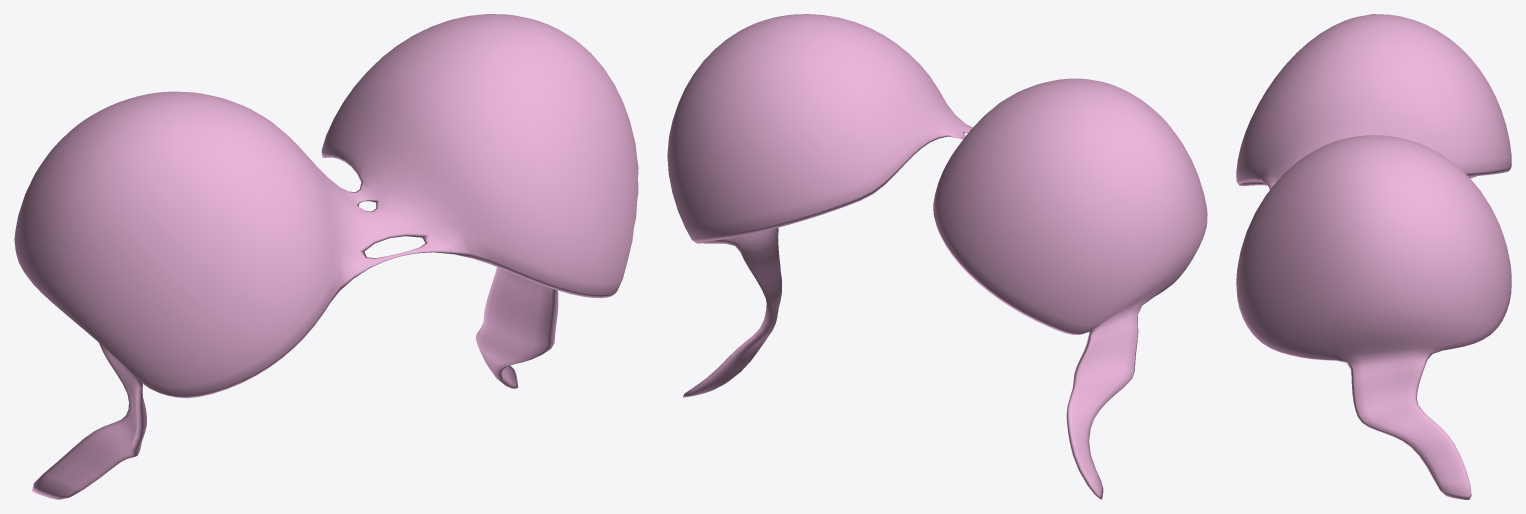
The model's file is bRA.fbx.
3 views of the same model, side by side, from view 1: azimuth 30°, elevation 25°; view 2: azimuth 150°, elevation 25°; view 3: azimuth 270°, elevation 25° (orthographic). The views are drawn at different scales.
Parts seen in each view (by area): view 1: bRA; view 2: bRA; view 3: bRA.
Boxes of the visible parts, x1,y1,x2,y2 form: bRA: (14, 14, 638, 499); bRA: (667, 14, 1207, 499); bRA: (1236, 14, 1511, 499).
Bounding box in the file's own units: 133 × 89.9 × 69.7.
